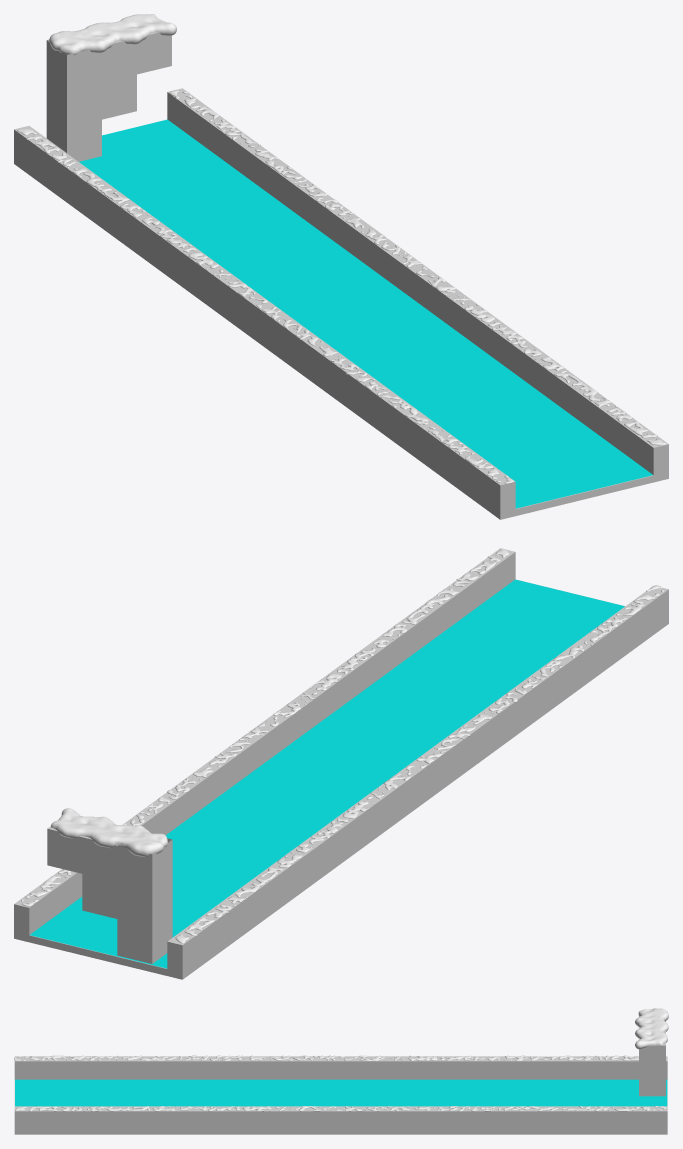
The model's file is Map236.fbx.
3 views of the same model, one above another, from view 1: azimuth 30°, elevation 25°; view 2: azimuth 150°, elevation 25°; view 3: azimuth 270°, elevation 25° (orthographic). The views are drawn at different scales.
Parts seen in each view (by area): view 1: Plane.001, Cube.001, Cube.002, SnowBall.002, SnowBall.003, SnowBall.001; view 2: Plane.001, Cube.001, Cube.002, SnowBall.003, SnowBall.002, SnowBall.001; view 3: Cube.001, Plane.001, SnowBall.002, SnowBall.003, Cube.002, SnowBall.001.
Part boxes in pixels (bbox=[...]): Plane.001: bbox=[79, 119, 652, 508]; Cube.001: bbox=[14, 88, 668, 519]; Cube.002: bbox=[46, 32, 171, 161]; SnowBall.002: bbox=[169, 90, 666, 445]; SnowBall.003: bbox=[17, 129, 513, 483]; SnowBall.001: bbox=[49, 14, 176, 55]; Plane.001: bbox=[30, 579, 624, 968]; Cube.001: bbox=[14, 548, 668, 979]; Cube.002: bbox=[47, 826, 172, 963]; SnowBall.003: bbox=[175, 585, 663, 943]; SnowBall.002: bbox=[21, 548, 509, 906]; SnowBall.001: bbox=[51, 808, 167, 856]; Cube.001: bbox=[14, 1056, 667, 1134]; Plane.001: bbox=[15, 1079, 667, 1106]; SnowBall.002: bbox=[15, 1106, 666, 1111]; SnowBall.003: bbox=[14, 1055, 638, 1060]; Cube.002: bbox=[639, 1016, 665, 1096]; SnowBall.001: bbox=[635, 1008, 668, 1049].
Size of the model in its own units: 244 by 168 by 1206.
